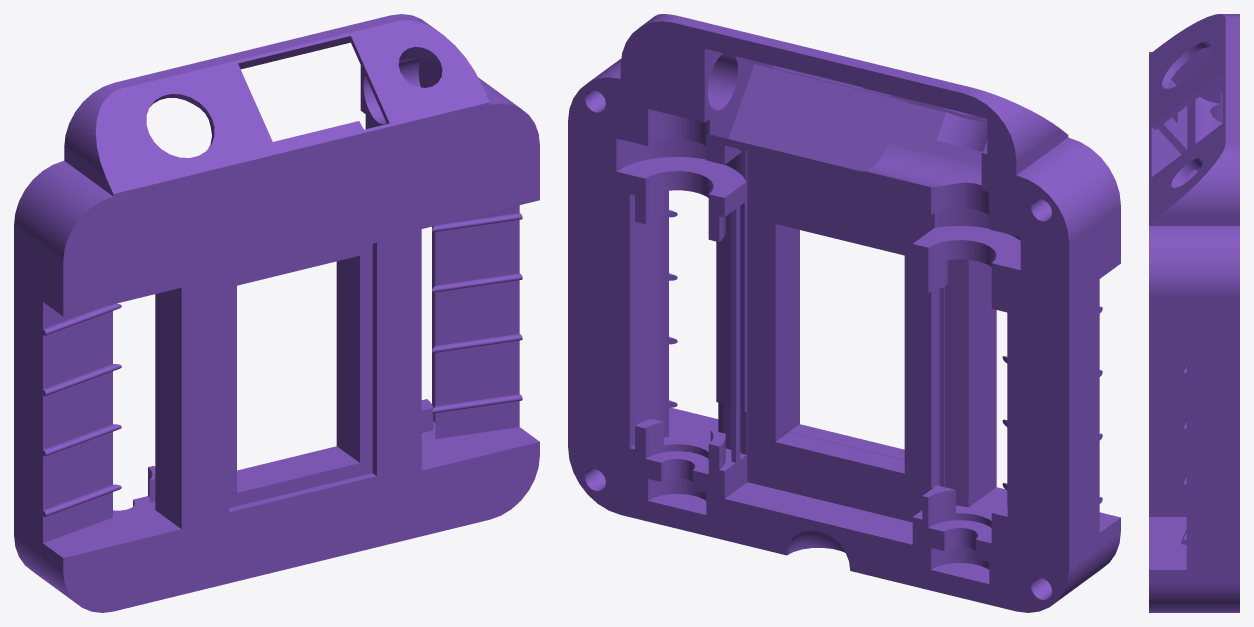
The model's file is viko.glb.
3 renders of one model, left to right at view 1: azimuth 30°, elevation 25°; view 2: azimuth 150°, elevation 25°; view 3: azimuth 270°, elevation 25°, orthographic. The views are drawn at different scales.
Visible parts, largest first — view 1: Těleso1; view 2: Těleso1; view 3: Těleso1.
Boxes of the visible parts, x1,y1,x2,y2 form: Těleso1: [14, 14, 539, 612]; Těleso1: [568, 14, 1120, 612]; Těleso1: [1149, 14, 1239, 612].
Bounding box in the file's own units: 0.19 × 0.183 × 0.034.
